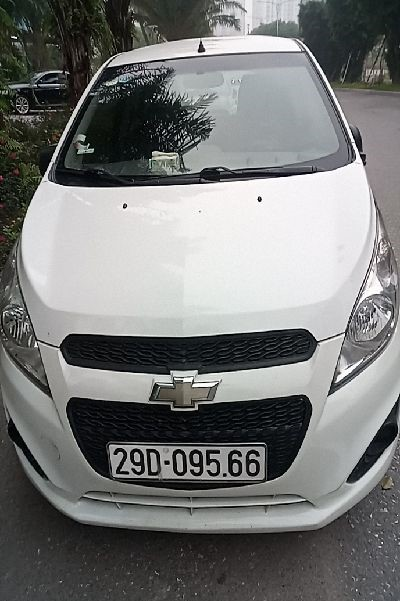number_plate: (107, 437, 273, 483)
